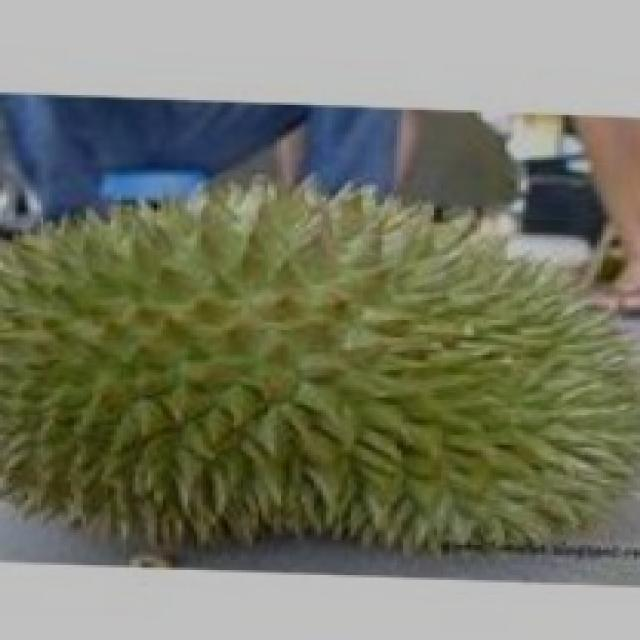fruit: (271, 180, 640, 592), (0, 158, 360, 570)
